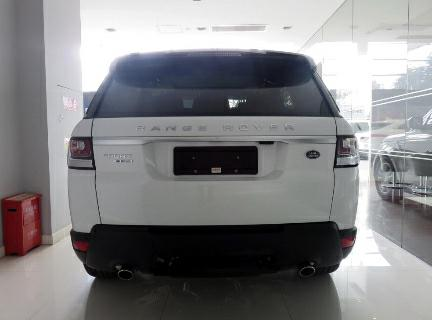路虎-揽胜运动版: (58, 43, 362, 289)
